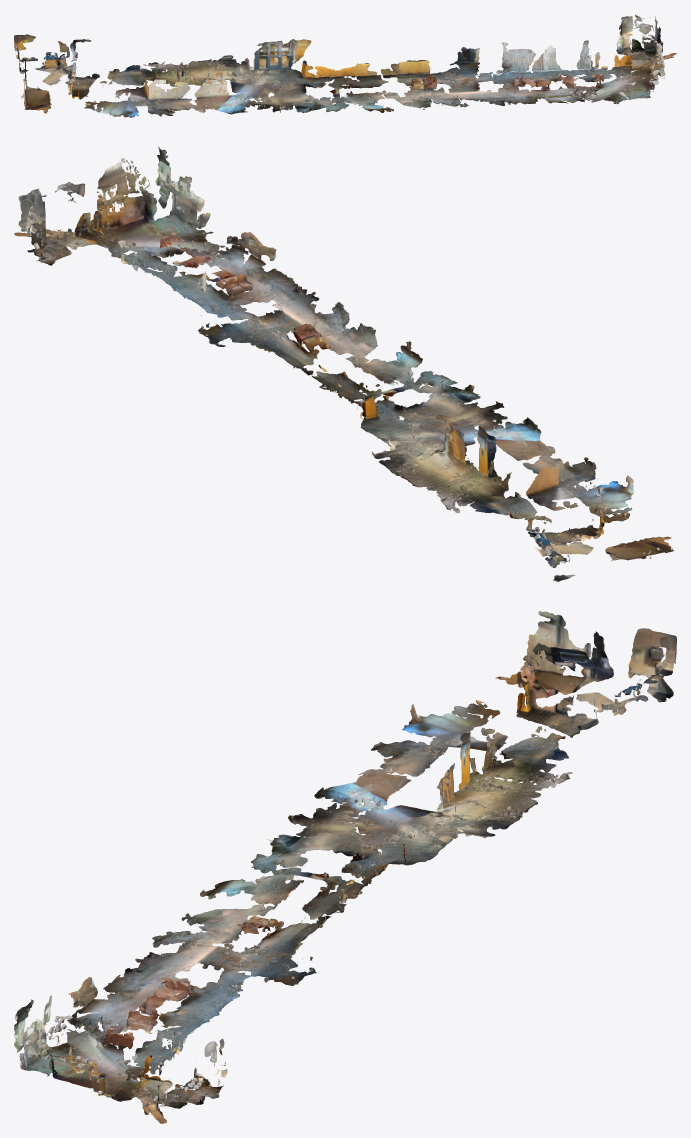
File: MAP_3QF6GHNX23TZ.glb
3 renders of one model, top to bottom at view 1: azimuth 30°, elevation 25°; view 2: azimuth 150°, elevation 25°; view 3: azimuth 270°, elevation 25°, orthographic. The views are drawn at different scales.
Visible parts, largest first — view 1: TexturedMesh.obj; view 2: TexturedMesh.obj; view 3: TexturedMesh.obj.
Boxes of the visible parts, x1=… form: TexturedMesh.obj: x1=14, y1=14, x2=676, y2=117; TexturedMesh.obj: x1=14, y1=146, x2=674, y2=581; TexturedMesh.obj: x1=14, y1=611, x2=676, y2=1123.
Bounding box in the file's own units: 43.88 × 3.57 × 26.84.
Materials: 1 (1 with a texture image).
